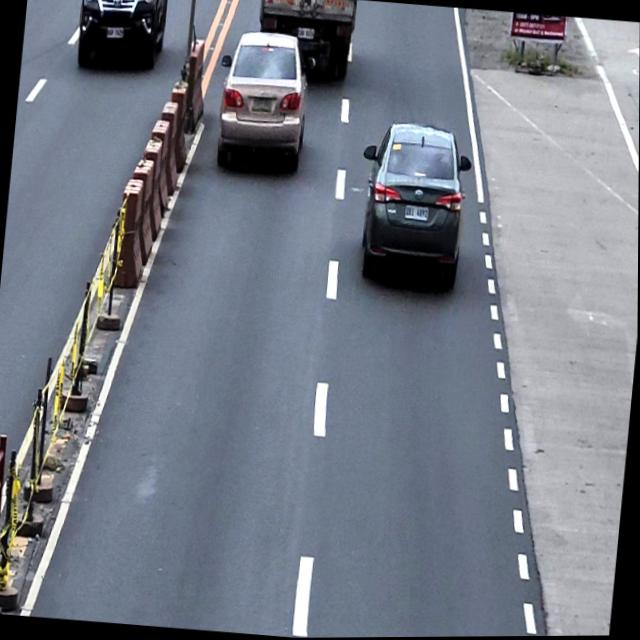Car: (351, 117, 475, 290), (211, 27, 313, 174), (75, 0, 169, 74)
License-Plate: (403, 202, 430, 223), (250, 96, 273, 114), (105, 25, 125, 40), (296, 26, 315, 41)
Truck: (253, 0, 357, 84)
